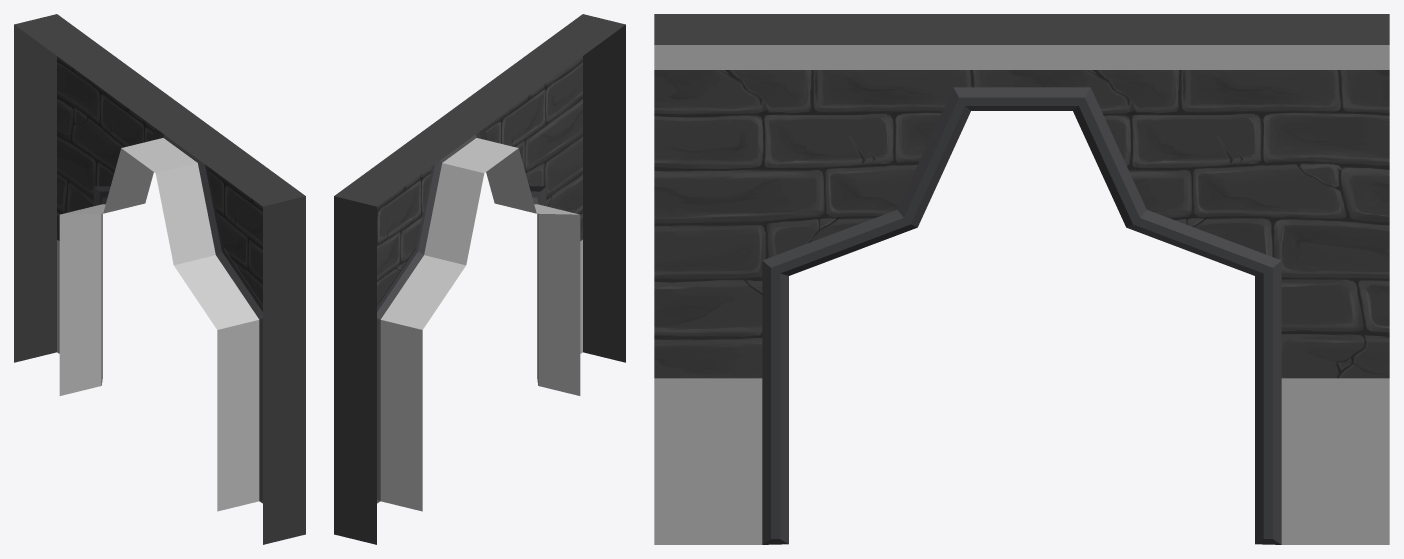
Rendered from SM_ModularKit_Archway.fbx.
3 renders of one model, left to right at view 1: azimuth 30°, elevation 25°; view 2: azimuth 150°, elevation 25°; view 3: azimuth 270°, elevation 25°, orthographic. The views are drawn at different scales.
Visible parts, largest first — view 1: Archway; view 2: Archway; view 3: Archway.
Part boxes in pixels (left/top/right/bottom): Archway: left=14, top=14, right=305, bottom=544; Archway: left=334, top=14, right=625, bottom=544; Archway: left=654, top=14, right=1389, bottom=544.
Size of the model in its own units: 42.74 by 300 by 400.
